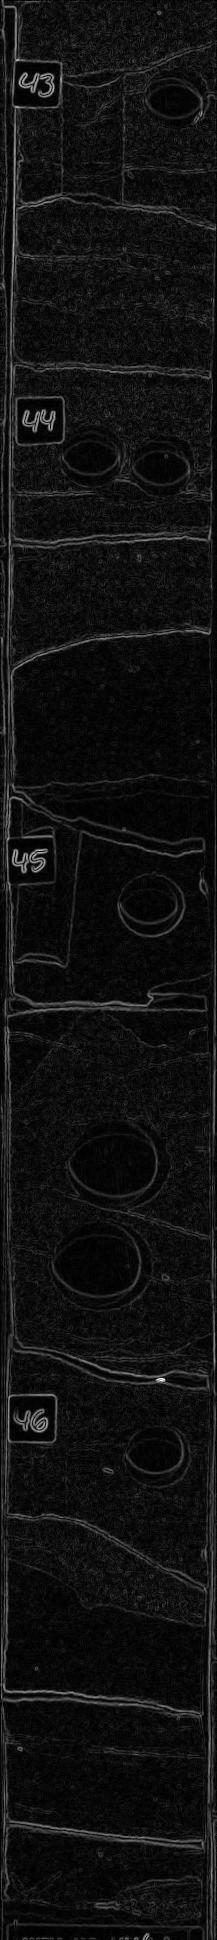hplug: (115, 1413, 201, 1499), (53, 411, 129, 493), (137, 61, 213, 137), (111, 867, 187, 939), (127, 431, 201, 503)
scal: (61, 1109, 175, 1215), (47, 1219, 159, 1317)
vplug: (11, 797, 79, 971), (55, 65, 129, 211)
